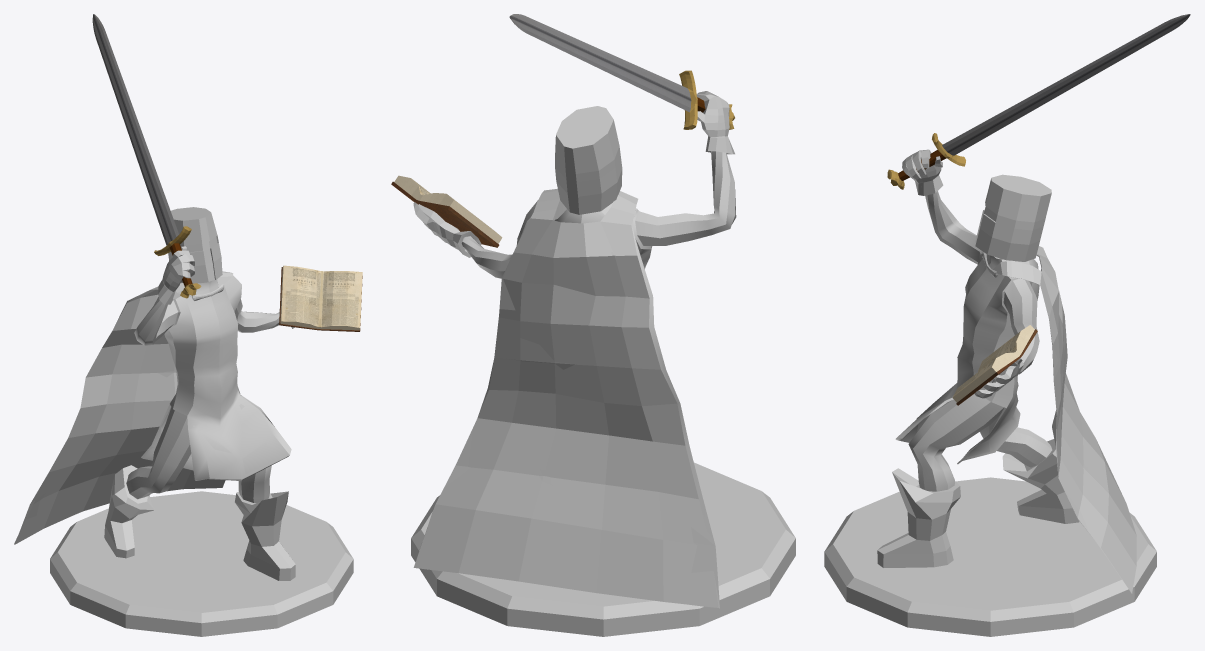
Rendered from Templar_Sword_Book.fbx.
3 renders of one model, left to right at view 1: azimuth 30°, elevation 25°; view 2: azimuth 150°, elevation 25°; view 3: azimuth 270°, elevation 25°, orthographic. The views are drawn at different scales.
Parts seen in each view (by area): view 1: Templar_Sword_Book, pasted__polySurface18, pasted__pasted__pCube3, pasted__Sword1; view 2: Templar_Sword_Book, pasted__polySurface18, pasted__Sword1, pasted__pasted__pCube3; view 3: Templar_Sword_Book, pasted__polySurface18, pasted__Sword1, pasted__pasted__pCube3.
Boxes of the visible parts, x1,y1,x2,y2 form: Templar_Sword_Book: [14, 207, 295, 580]; pasted__polySurface18: [50, 491, 353, 636]; pasted__pasted__pCube3: [279, 265, 362, 331]; pasted__Sword1: [92, 14, 201, 298]; Templar_Sword_Book: [413, 91, 736, 608]; pasted__polySurface18: [411, 462, 795, 636]; pasted__Sword1: [509, 14, 734, 129]; pasted__pasted__pCube3: [391, 175, 502, 247]; Templar_Sword_Book: [877, 149, 1136, 593]; pasted__polySurface18: [824, 477, 1156, 636]; pasted__Sword1: [887, 14, 1190, 189]; pasted__pasted__pCube3: [952, 325, 1037, 405].
Size of the model in its own units: 231 by 361 by 220.
